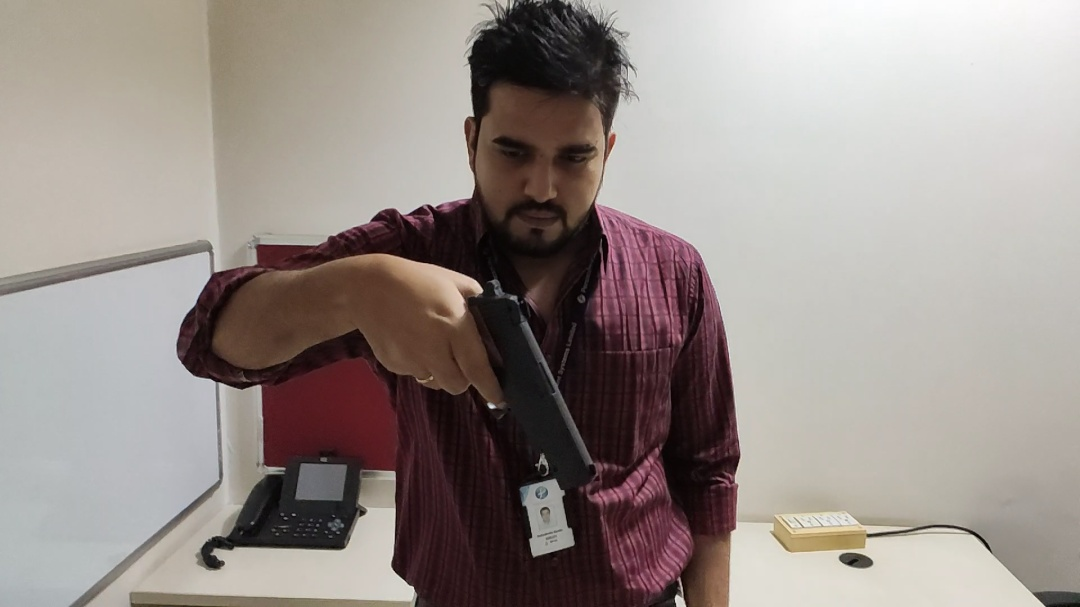gun: (395, 274, 600, 495)
